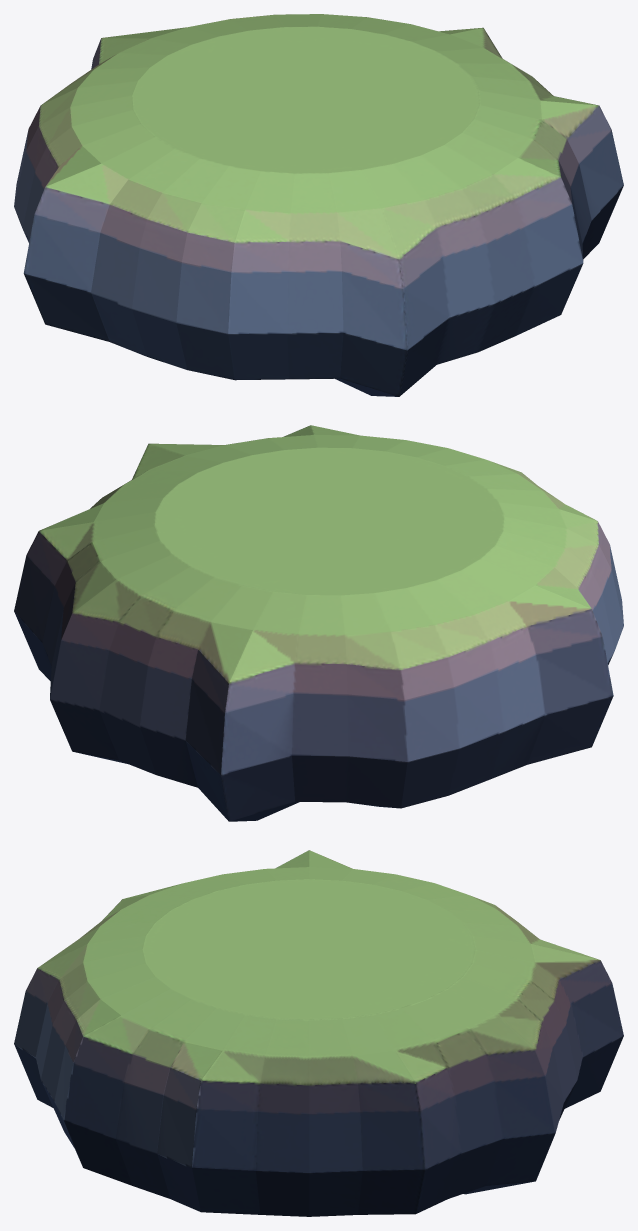
Rendered from upper-island.glb.
3 renders of one model, top to bottom at view 1: azimuth 30°, elevation 25°; view 2: azimuth 150°, elevation 25°; view 3: azimuth 270°, elevation 25°, orthographic. The views are drawn at different scales.
Visible parts, largest first — view 1: upper_island; view 2: upper_island; view 3: upper_island.
Boxes of the visible parts, box(x1,y1,x2,y2) form: upper_island: box(14, 14, 623, 396); upper_island: box(14, 425, 623, 821); upper_island: box(14, 850, 623, 1216).
Size of the model in its own units: 25.01 by 10 by 25.64.
1 material, 1 textured.
